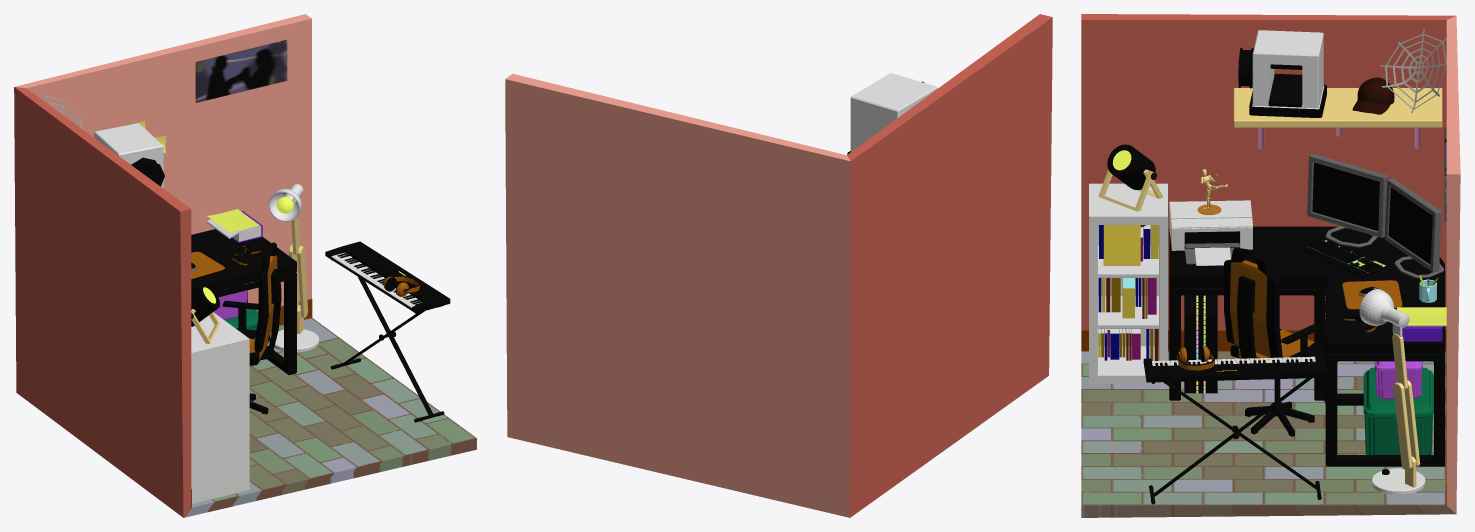
File: lowpoly_desk-processed.glb
3 views of the same model, side by side, from view 1: azimuth 30°, elevation 25°; view 2: azimuth 150°, elevation 25°; view 3: azimuth 270°, elevation 25° (orthographic). The views are drawn at different scales.
Visible parts, largest first — view 1: walls_26, small bookshelf_36, desk_2, music keyboard_19, picture_27, gaming chair_13, lamp_12, 3DPrinter_7, note_23, spotlight_6, headset_20, mouse carpet_14 (+1 smaller); view 2: walls_26, 3DPrinter_7; view 3: walls_26, desk_2, small bookshelf_36, gaming chair_13, 3DPrinter_7, plank_8, music keyboard_19, screens_34, lamp_12, printer_24, screens.001_35, chest1_17 (+12 smaller).
Boxes of the visible parts, x1,y1,x2,y2 form: walls_26: [14, 14, 476, 517]; small bookshelf_36: [191, 313, 249, 503]; desk_2: [191, 229, 296, 374]; music keyboard_19: [325, 241, 450, 422]; picture_27: [195, 40, 287, 102]; gaming chair_13: [222, 242, 281, 414]; lamp_12: [268, 184, 319, 352]; 3DPrinter_7: [94, 123, 164, 188]; note_23: [207, 209, 260, 238]; spotlight_6: [191, 282, 219, 326]; headset_20: [383, 275, 420, 296]; mouse carpet_14: [191, 251, 224, 278]; walls_26: [505, 14, 1052, 517]; 3DPrinter_7: [847, 73, 937, 154]; walls_26: [1081, 14, 1460, 517]; desk_2: [1169, 226, 1445, 466]; small bookshelf_36: [1089, 183, 1167, 383]; gaming chair_13: [1224, 247, 1323, 436]; 3DPrinter_7: [1238, 30, 1326, 117]; plank_8: [1233, 88, 1442, 148]; music keyboard_19: [1143, 354, 1327, 504]; screens_34: [1307, 153, 1388, 247]; lamp_12: [1359, 289, 1425, 495]; printer_24: [1169, 200, 1252, 265]; screens.001_35: [1384, 178, 1443, 278]; chest1_17: [1363, 367, 1433, 454].
Bounding box in the file's own units: 2.1 × 2.08 × 2.08.
Materials: 6 (5 with a texture image).
